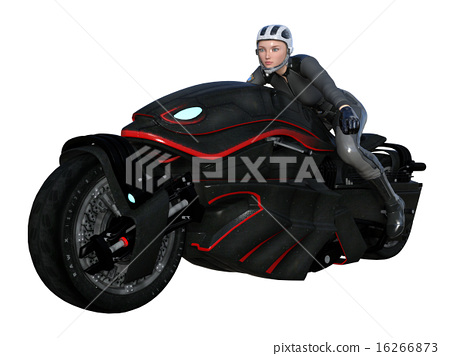helmet: (255, 20, 296, 50)
